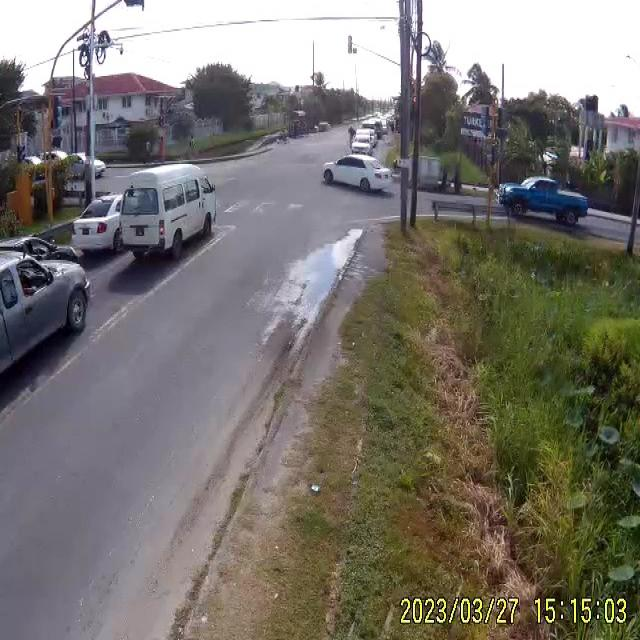car: (118, 165, 217, 262), (500, 177, 588, 227), (73, 194, 126, 255), (323, 155, 394, 192), (352, 127, 376, 154)
